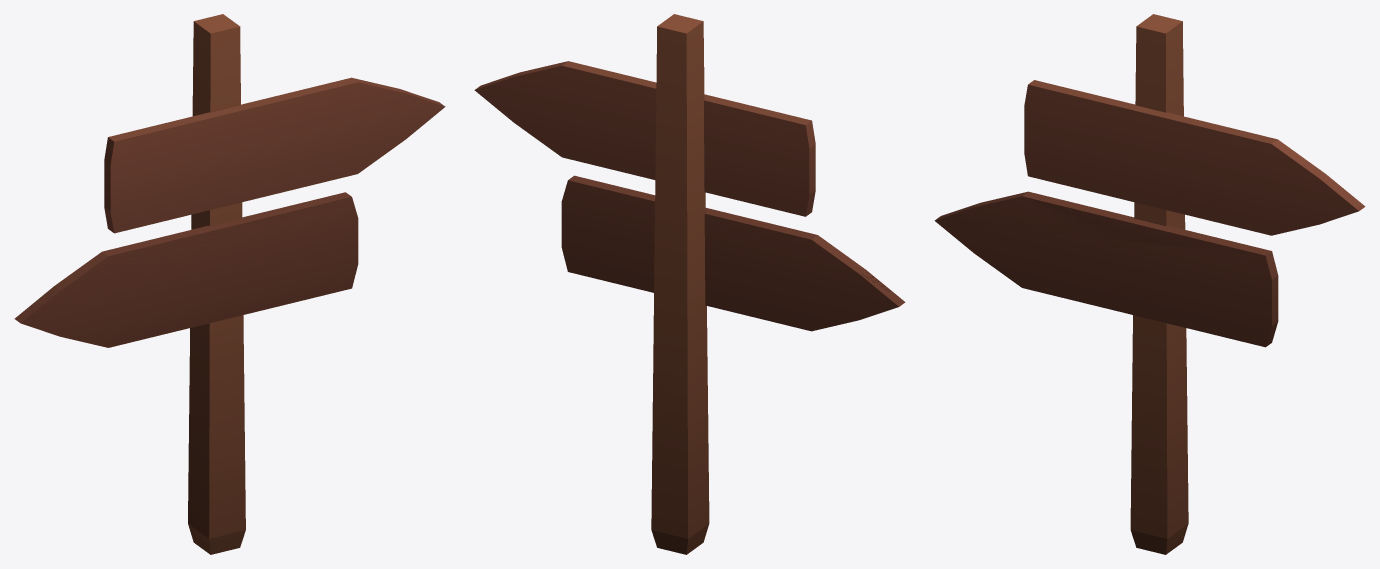
The model's file is farmpack2023sign03.fbx.
3 renders of one model, left to right at view 1: azimuth 30°, elevation 25°; view 2: azimuth 150°, elevation 25°; view 3: azimuth 330°, elevation 25°, orthographic.
Visible parts, largest first — view 1: Plane.014; view 2: Plane.014; view 3: Plane.014.
Part boxes in pixels (x1,y1,x2,y2): Plane.014: [14, 14, 445, 554]; Plane.014: [474, 14, 905, 554]; Plane.014: [934, 14, 1365, 554].
Bounding box in the file's own units: 0.2005 × 1.96 × 2.29.
